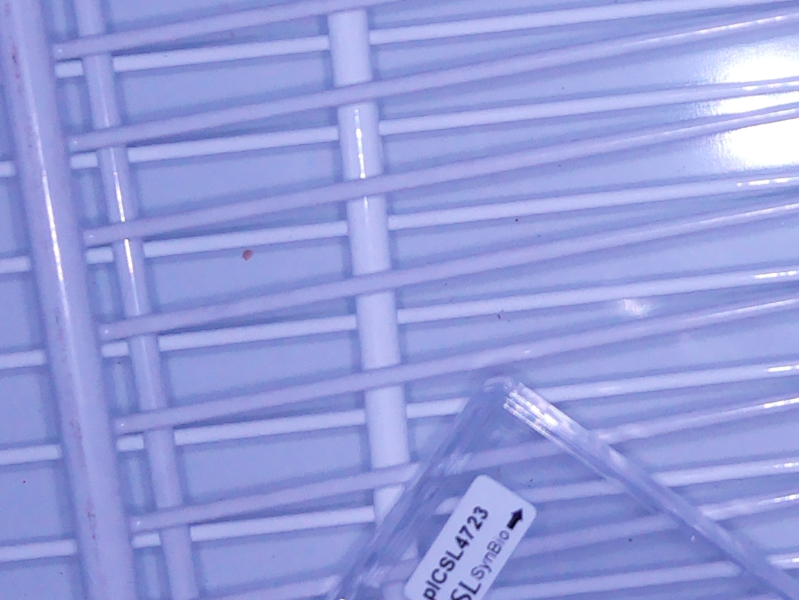plate: (324, 373, 799, 600)
